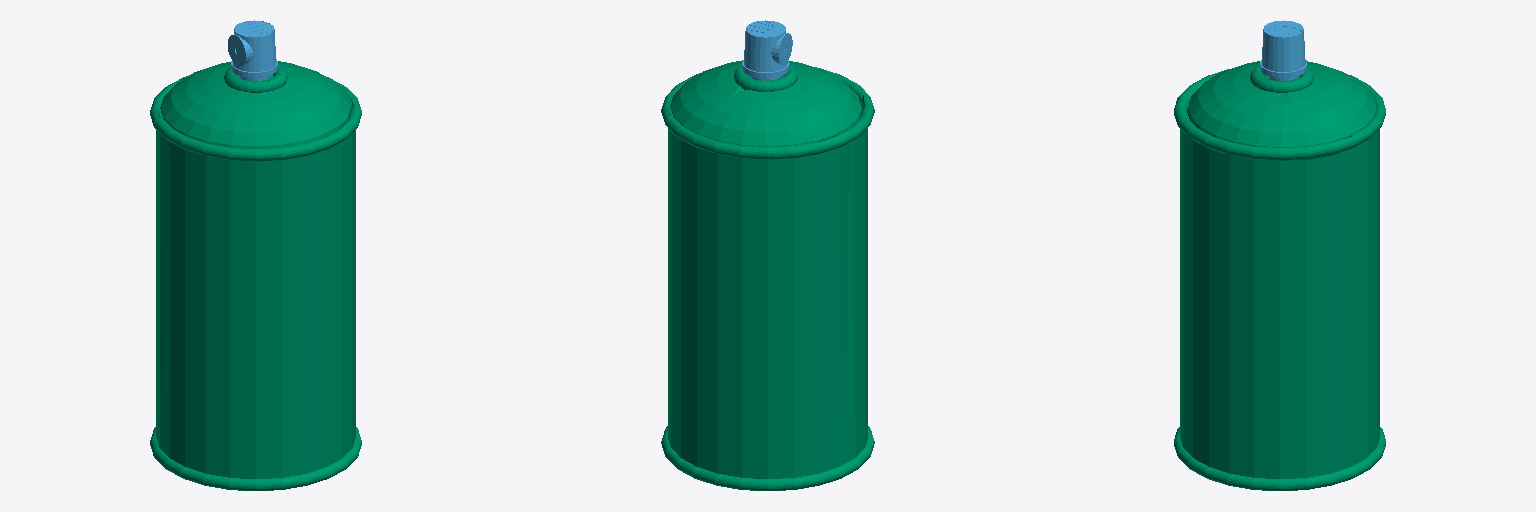
URDF robot description (partnet_a1c91a0d66c865b0c0ea4586d3cf4a4):
<?xml version="1.0" ?>
<robot name="partnet_a1c91a0d66c865b0c0ea4586d3cf4a4">
	<link name="base"/>
	<link name="link_0">
		<visual name="pressing_lid-1">
			<origin xyz="0.010711499999999999 0 -0.015151500000000002"/>
			<geometry>
				<mesh filename="textured_objs/original-2.obj"/>
			</geometry>
		</visual>
		<visual name="pressing_lid-1">
			<origin xyz="0.010711499999999999 0 -0.015151500000000002"/>
			<geometry>
				<mesh filename="textured_objs/original-3.obj"/>
			</geometry>
		</visual>
		<collision>
			<origin xyz="0.010711499999999999 0 -0.015151500000000002"/>
			<geometry>
				<mesh filename="textured_objs/original-2.obj"/>
			</geometry>
		</collision>
		<collision>
			<origin xyz="0.010711499999999999 0 -0.015151500000000002"/>
			<geometry>
				<mesh filename="textured_objs/original-3.obj"/>
			</geometry>
		</collision>
	</link>
	<joint name="joint_0" type="prismatic">
		<origin xyz="0.0 0 0.0"/>
		<axis xyz="0 1 0"/>
		<child link="link_0"/>
		<parent link="link_0_helper"/>
        <limit lower="-0.05" upper="0.2"/>
	</joint>
	<link name="link_1">
		<visual name="base_body-2">
			<origin xyz="0 0 0"/>
			<geometry>
				<mesh filename="textured_objs/original-1.obj"/>
			</geometry>
		</visual>
		<collision>
			<origin xyz="0 0 0"/>
			<geometry>
				<mesh filename="textured_objs/original-1.obj"/>
			</geometry>
		</collision>
	</link>
	<joint name="joint_1" type="fixed">
		<origin rpy="1.570796326794897 0 -1.570796326794897" xyz="0 0 0"/>
		<child link="link_1"/>
		<parent link="base"/>
	</joint>
	<link name="link_0_helper"/>
	<joint name="joint_2" type="prismatic">
		<origin xyz="-0.010711499999999999 0 0.015151500000000002"/>
		<axis xyz="0 -1 0"/>
		<child link="link_0_helper"/>
		<parent link="link_1"/>
		<limit lower="0" upper="0.0040000000000000036"/>
	</joint>
</robot>

--- Facts derived from the render (not from the file) ---
The picture shows the robot from 3 angles, left to right: view 1: azimuth 30°, elevation 25°; view 2: azimuth 150°, elevation 25°; view 3: azimuth 270°, elevation 25°; orthographic projection.
Robot: partnet_a1c91a0d66c865b0c0ea4586d3cf4a4 — 4 links, 3 joints (2 prismatic, 1 fixed); root link base; default pose: every joint at zero.
Links seen in each view (by area): view 1: link_1, link_0; view 2: link_1, link_0; view 3: link_1, link_0.
Link boxes in pixels (<box>): link_1: <box>150,61,361,490</box>; link_0: <box>228,20,277,80</box>; link_1: <box>661,60,874,490</box>; link_0: <box>742,20,792,80</box>; link_1: <box>1174,61,1385,490</box>; link_0: <box>1260,20,1306,80</box>.
Size in the robot's own frame: 0.8844 by 0.8844 by 1.92 metres.
3 mesh visuals loaded from 3 distinct referenced files (3 OBJ).